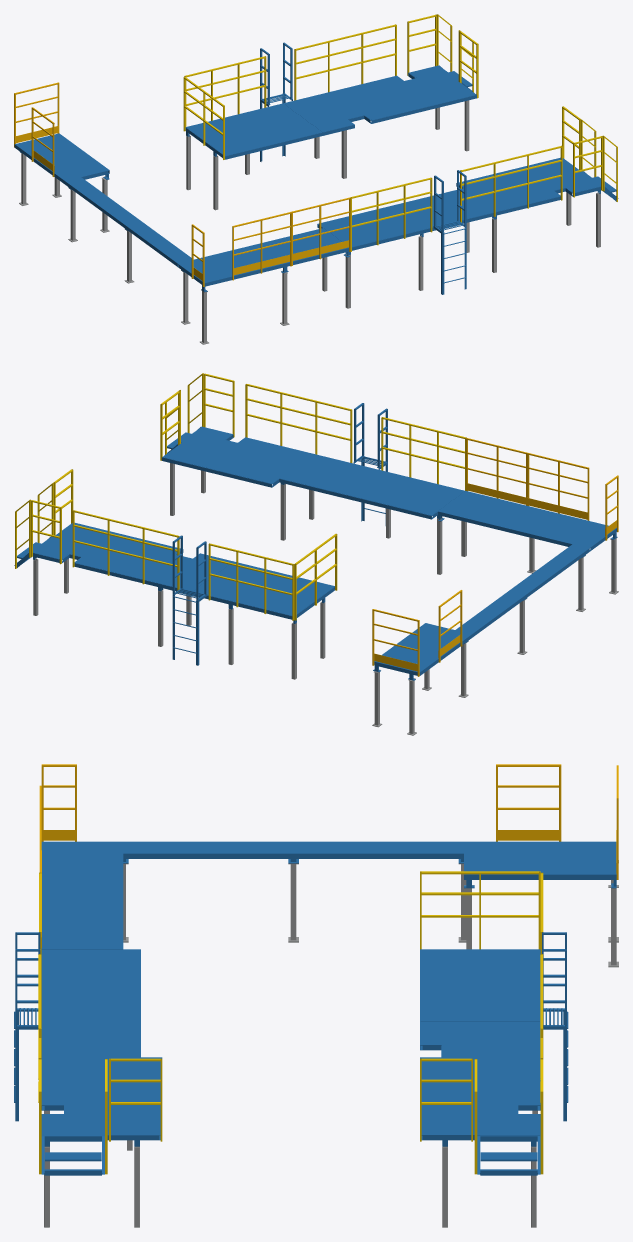
File: Phase50 (2).fbx
3 views of the same model, one above another, from view 1: azimuth 30°, elevation 25°; view 2: azimuth 150°, elevation 25°; view 3: azimuth 270°, elevation 25° (orthographic). The views are drawn at different scales.
Visible parts, largest first — view 1: RAL 5015 (×6), 105:105:717016, Стальной лист (ГОСТ 19903-74) Балки:Лист 3х2150х1100:260077, 108:108:744790, 64:64:715810, 56:56:743506, Стальной лист (ГОСТ 19903-74) Балки:Лист 3х1790х1150:259207, CPS_КаркасНесущий_Швеллер_ПолкаПараллельная_ГОСТ 8240-97:Бал (×3), 63:63:718271, Стальной лист (ГОСТ 19903-74) Балки:Лист 3х1790х1150:259282, Семейство1:Семейство1:713345, Швеллер_с_параллельными_полками_ГОСТ_8240-97_Балка:[ 8P:2574 (+4 smaller); view 2: RAL 5015 (×6), 105:105:717016, 108:108:744790, Стальной лист (ГОСТ 19903-74) Балки:Лист 3х1790х1150:259282, 56:56:743506, Стальной лист (ГОСТ 19903-74) Балки:Лист 3х1790х1150:259207, Стальной лист (ГОСТ 19903-74) Балки:Лист 3х2150х1100:260077, CPS_КаркасНесущий_Швеллер_ПолкаПараллельная_ГОСТ 8240-97:Бал (×3), 64:64:715810, 63:63:718271, Семейство1:Семейство1:713345, Стальной лист (ГОСТ 19903-74) Балки:Лист 3х165х730 ГОСТ 1990 (×2) (+5 smaller); view 3: RAL 5015 (×6), 105:105:717016, Стальной лист (ГОСТ 19903-74) Балки:Лист 3х2150х1100:260077, Стальной лист (ГОСТ 19903-74) Балки:Лист 3х1790х1150:259207, Стальной лист (ГОСТ 19903-74) Балки:Лист 3х1790х1150:259282, 108:108:744790, 64:64:715810, 56:56:743506, 63:63:718271, Семейство1:Семейство1:713345, Стальной лист (ГОСТ 19903-74) Балки:Лист 3х1200х400:259565, Стальной лист (ГОСТ 19903-74) Балки:Лист 3х1200х400:259462 (+6 smaller).
Boxes of the visible parts, <box> form: RAL 5015 (×6): <box>219,103,495,246</box>; 105:105:717016: <box>333,76,435,120</box>; Стальной лист (ГОСТ 19903-74) Балки:Лист 3х2150х1100:260077: <box>15,133,109,180</box>; 108:108:744790: <box>459,170,548,211</box>; 64:64:715810: <box>283,91,364,132</box>; 56:56:743506: <box>510,158,600,198</box>; Стальной лист (ГОСТ 19903-74) Балки:Лист 3х1790х1150:259207: <box>178,246,276,283</box>; CPS_КаркасНесущий_Швеллер_ПолкаПараллельная_ГОСТ 8240-97:Бал (×3): <box>225,95,496,250</box>; 63:63:718271: <box>405,66,476,104</box>; Стальной лист (ГОСТ 19903-74) Балки:Лист 3х1790х1150:259282: <box>250,228,348,265</box>; Семейство1:Семейство1:713345: <box>186,119,257,155</box>; Швеллер_с_параллельными_полками_ГОСТ_8240-97_Балка:[ 8P:2574: <box>204,248,348,286</box>; RAL 5015 (×6): <box>193,454,464,607</box>; 105:105:717016: <box>74,532,180,578</box>; 108:108:744790: <box>217,440,312,483</box>; Стальной лист (ГОСТ 19903-74) Балки:Лист 3х1790х1150:259282: <box>438,491,541,529</box>; 56:56:743506: <box>163,427,257,470</box>; Стальной лист (ГОСТ 19903-74) Балки:Лист 3х1790х1150:259207: <box>514,509,616,548</box>; Стальной лист (ГОСТ 19903-74) Балки:Лист 3х2150х1100:260077: <box>374,623,471,672</box>; CPS_КаркасНесущий_Швеллер_ПолкаПараллельная_ГОСТ 8240-97:Бал (×3): <box>158,457,432,619</box>; 64:64:715810: <box>141,553,233,591</box>; 63:63:718271: <box>33,523,114,559</box>; Семейство1:Семейство1:713345: <box>260,578,334,615</box>; Стальной лист (ГОСТ 19903-74) Балки:Лист 3х165х730 ГОСТ 1990 (×2): <box>466,483,588,519</box>; RAL 5015 (×6): <box>42,949,539,1057</box>; 105:105:717016: <box>420,1057,539,1105</box>; Стальной лист (ГОСТ 19903-74) Балки:Лист 3х2150х1100:260077: <box>464,841,616,874</box>; Стальной лист (ГОСТ 19903-74) Балки:Лист 3х1790х1150:259207: <box>41,841,123,895</box>; Стальной лист (ГОСТ 19903-74) Балки:Лист 3х1790х1150:259282: <box>41,895,123,949</box>; 108:108:744790: <box>42,1057,161,1096</box>; 64:64:715810: <box>420,1021,539,1057</box>; 56:56:743506: <box>42,1096,160,1134</box>; 63:63:718271: <box>421,1105,539,1135</box>; Семейство1:Семейство1:713345: <box>420,949,539,973</box>; Стальной лист (ГОСТ 19903-74) Балки:Лист 3х1200х400:259565: <box>208,841,293,853</box>; Стальной лист (ГОСТ 19903-74) Балки:Лист 3х1200х400:259462: <box>123,841,208,853</box>.
Size of the model in its own units: 10236 by 8525 by 2661.
